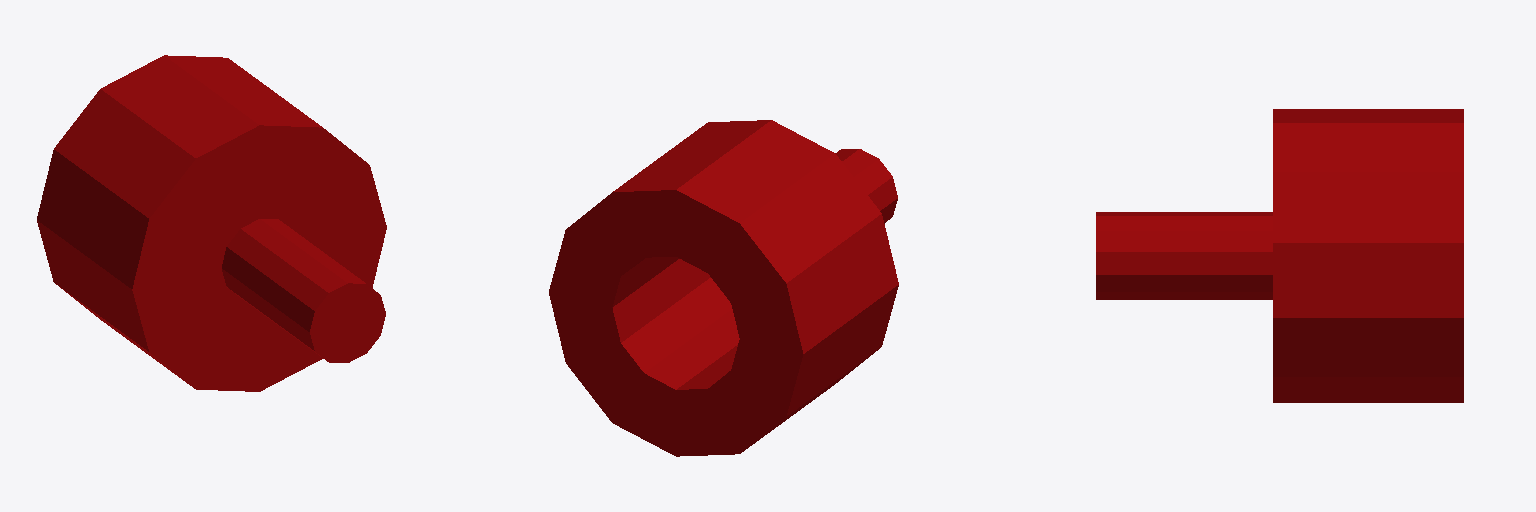
3 views of the same model, side by side, from view 1: azimuth 30°, elevation 25°; view 2: azimuth 150°, elevation 25°; view 3: azimuth 270°, elevation 25° (orthographic).
Parts seen in each view (by area): view 1: Cylinder.body_Cylinder.004; view 2: Cylinder.body_Cylinder.004; view 3: Cylinder.body_Cylinder.004.
Boxes of the visible parts, x1,y1,x2,y2 form: Cylinder.body_Cylinder.004: [37, 55, 386, 391]; Cylinder.body_Cylinder.004: [549, 120, 898, 456]; Cylinder.body_Cylinder.004: [1096, 109, 1463, 402].
Bounding box in the file's own units: 0.1 × 0.1 × 0.125.